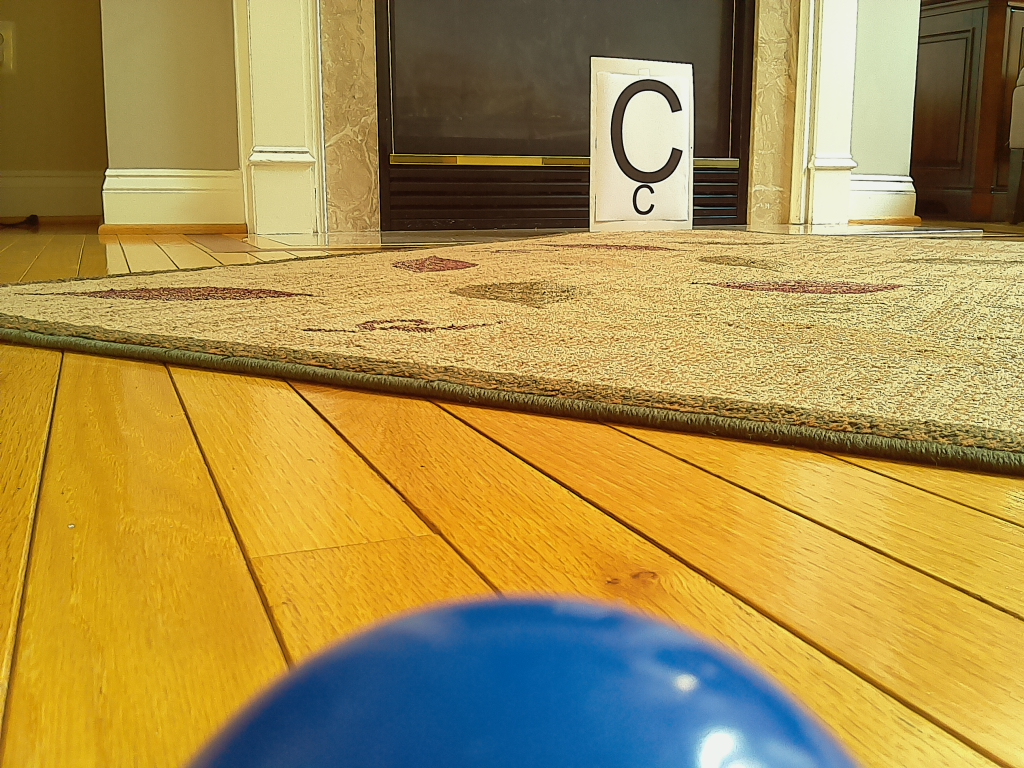letter: (612, 80, 681, 184)
